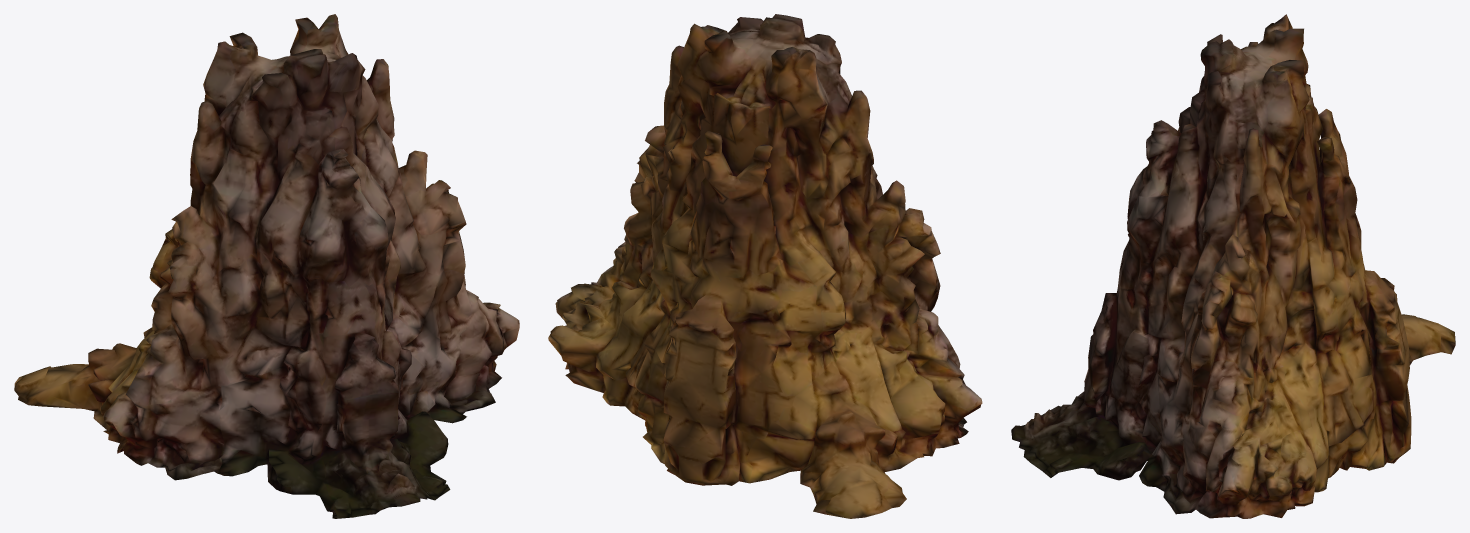
Rendered from cliff.glb.
3 renders of one model, left to right at view 1: azimuth 30°, elevation 25°; view 2: azimuth 150°, elevation 25°; view 3: azimuth 270°, elevation 25°, orthographic. The views are drawn at different scales.
Visible parts, largest first — view 1: tripo_node_2378b8b3-1387-41d0-a9b0-488c751338ee; view 2: tripo_node_2378b8b3-1387-41d0-a9b0-488c751338ee; view 3: tripo_node_2378b8b3-1387-41d0-a9b0-488c751338ee.
Boxes of the visible parts, bbox=[...] form: tripo_node_2378b8b3-1387-41d0-a9b0-488c751338ee: bbox=[14, 14, 519, 518]; tripo_node_2378b8b3-1387-41d0-a9b0-488c751338ee: bbox=[548, 14, 982, 518]; tripo_node_2378b8b3-1387-41d0-a9b0-488c751338ee: bbox=[1011, 14, 1455, 518].
Bounding box in the file's own units: 1.11 × 0.9983 × 0.99.
1 material, 1 textured.
